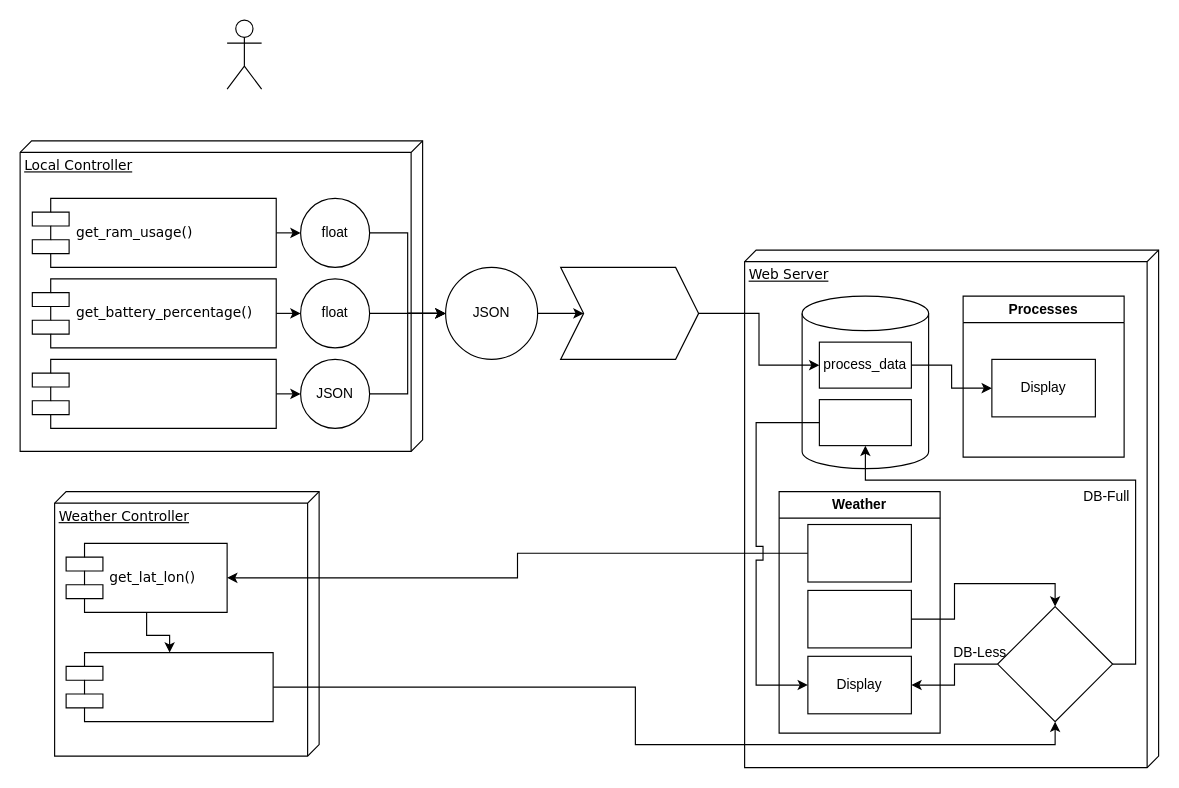
The diagram is 1179 pixels wide and 788 high, and some of its shapes have lost their labels. Here are the shapes that lost their labels. From the top down, the centre of each, then its label:
the point at 244,54: Actor
the point at 629,312: POST /processes
the point at 153,393: get_running_processes()
the point at 864,422: weather_data
the point at 859,552: Get City Name
the point at 859,618: DB-full/DB-less
the point at 1054,663: DB-Full/ DB-Less?
the point at 169,686: fetch_weather_data()
